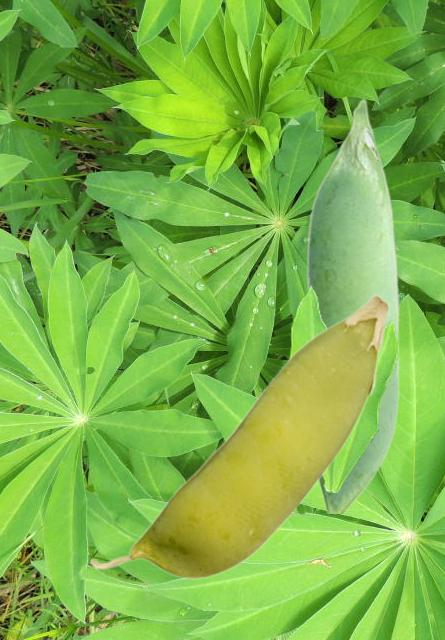pea: (89, 294, 389, 578), (306, 98, 398, 512)
